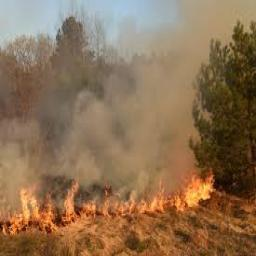Low smoke: (7, 40, 208, 168)
Small fire: (2, 172, 217, 232)
